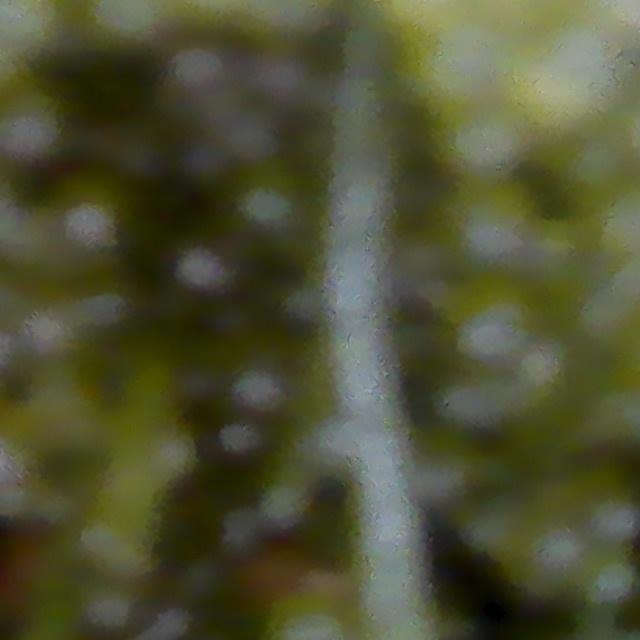SeaGrape: (505, 13, 624, 139), (448, 275, 539, 368), (452, 181, 541, 271), (441, 100, 526, 183), (507, 520, 590, 601), (0, 88, 65, 167), (578, 548, 637, 606), (585, 492, 640, 548)
